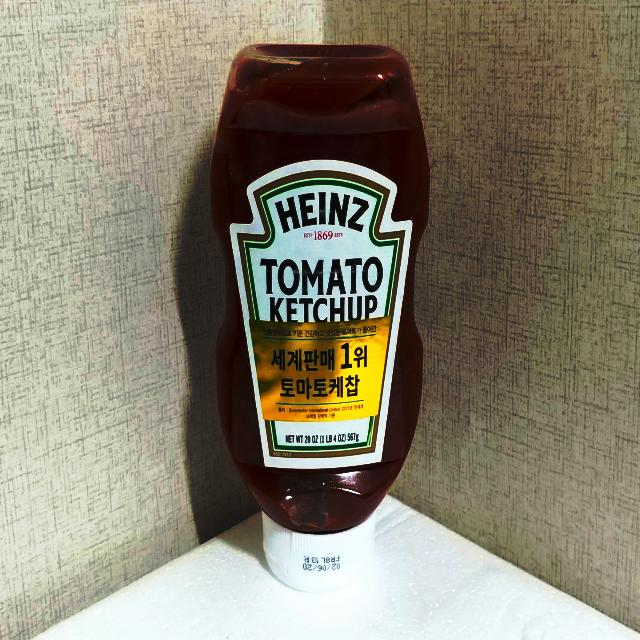ketchup: (207, 40, 428, 591)
